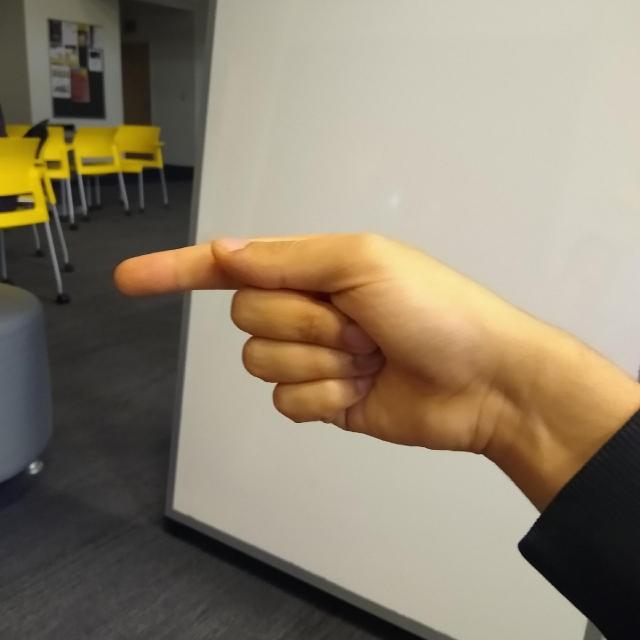G: (86, 190, 584, 483)
